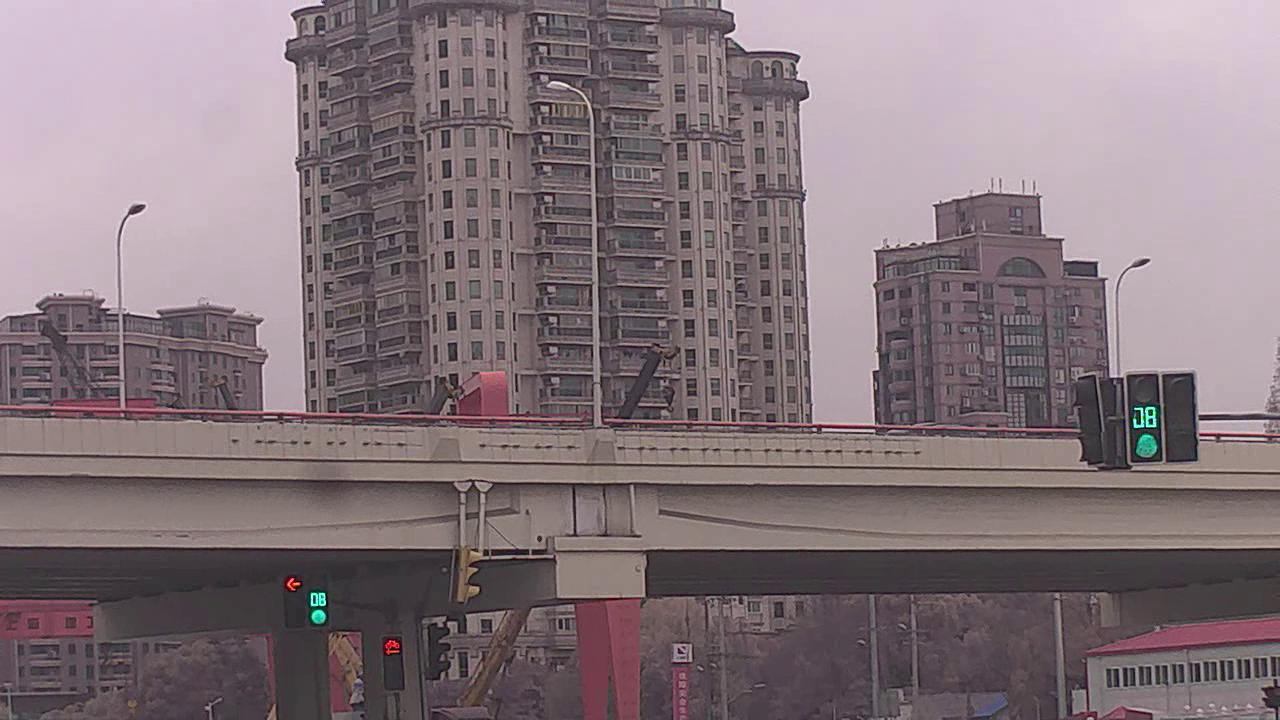traffic_light: (1162, 373, 1200, 465), (1130, 369, 1164, 466), (381, 633, 409, 691), (282, 572, 306, 629), (308, 576, 330, 627)
